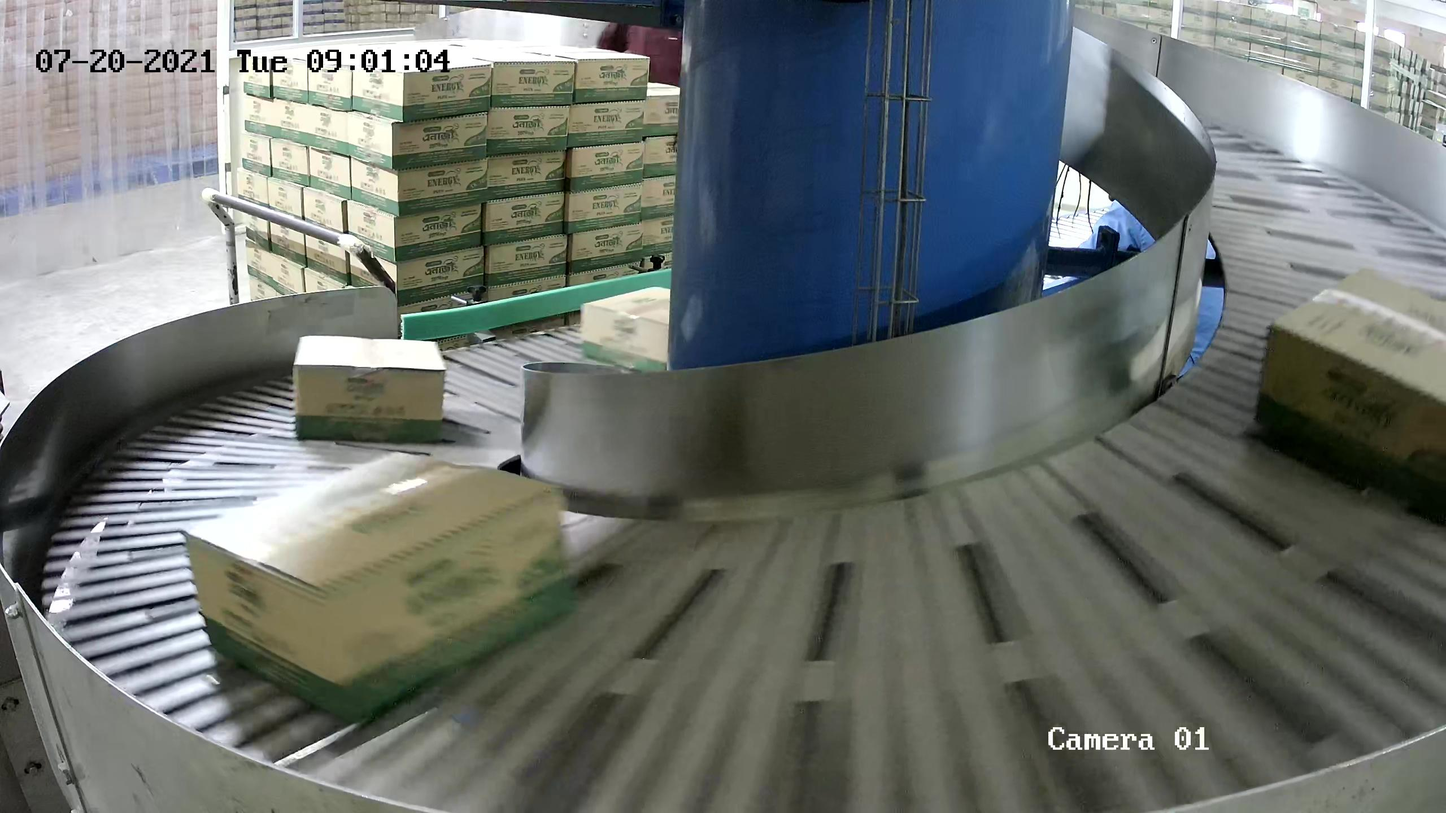Box: (173, 443, 579, 726), (1252, 261, 1446, 537), (292, 335, 448, 444), (579, 286, 722, 382)
